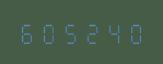five: (60, 20, 80, 44)
four: (102, 20, 122, 44)
six: (17, 20, 37, 44)
two: (81, 20, 101, 44)
zero: (38, 20, 58, 44), (123, 20, 143, 44)
